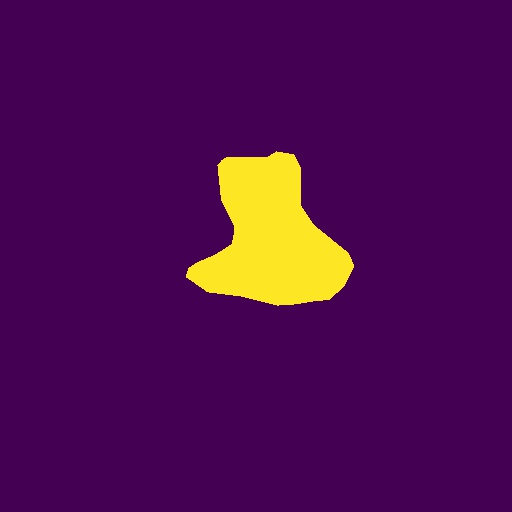Gliomia_tumour: (186, 151, 354, 306)
